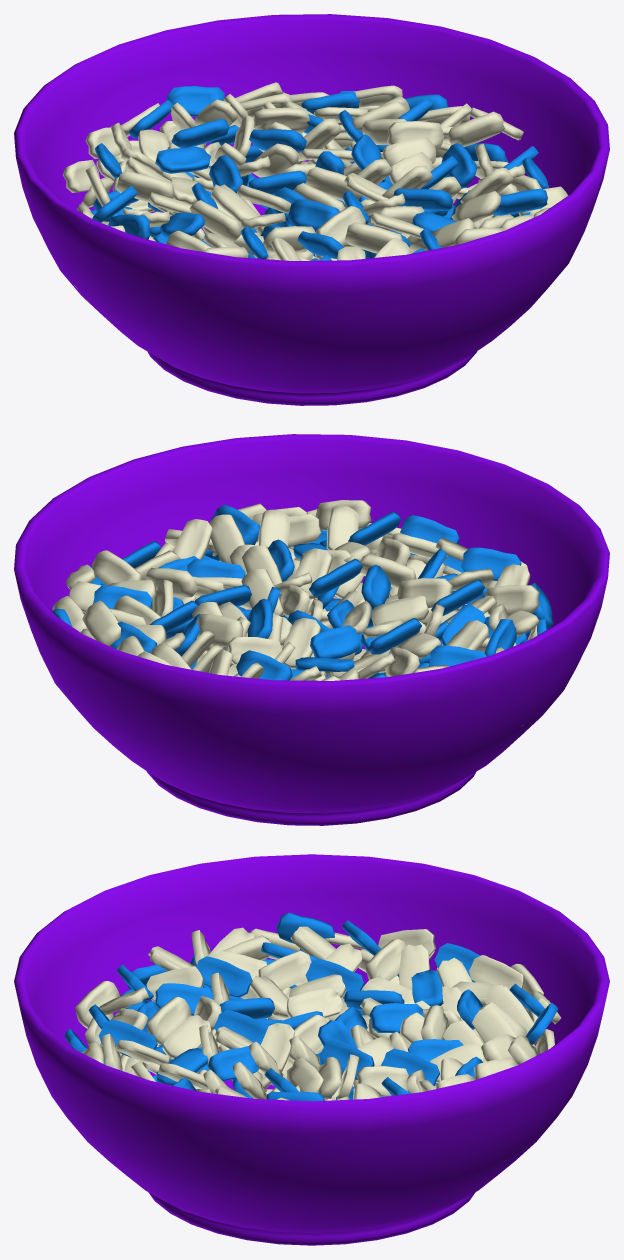
Rendered from Cereal_In_Bowl_FrostedFlames.fbx.
The picture shows the model from 3 angles, top to bottom: view 1: azimuth 30°, elevation 25°; view 2: azimuth 150°, elevation 25°; view 3: azimuth 270°, elevation 25°; orthographic projection.
Visible parts, largest first — view 1: Cereal_In_Bowl_FrostedFlames; view 2: Cereal_In_Bowl_FrostedFlames; view 3: Cereal_In_Bowl_FrostedFlames.
Boxes of the visible parts, x1,y1,x2,y2 form: Cereal_In_Bowl_FrostedFlames: (14, 14, 609, 405); Cereal_In_Bowl_FrostedFlames: (14, 434, 609, 825); Cereal_In_Bowl_FrostedFlames: (14, 854, 609, 1245).
Bounding box in the file's own units: 82.88 × 30.06 × 82.88.
